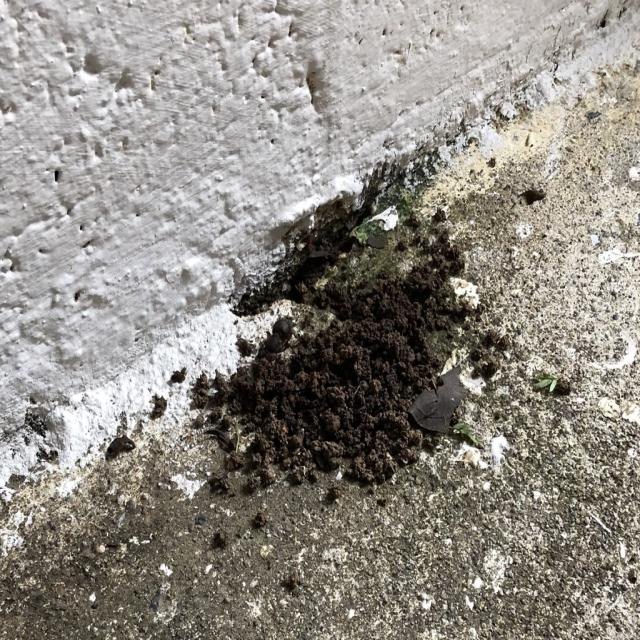Alive-Female-Dealate: (259, 318, 303, 368)
